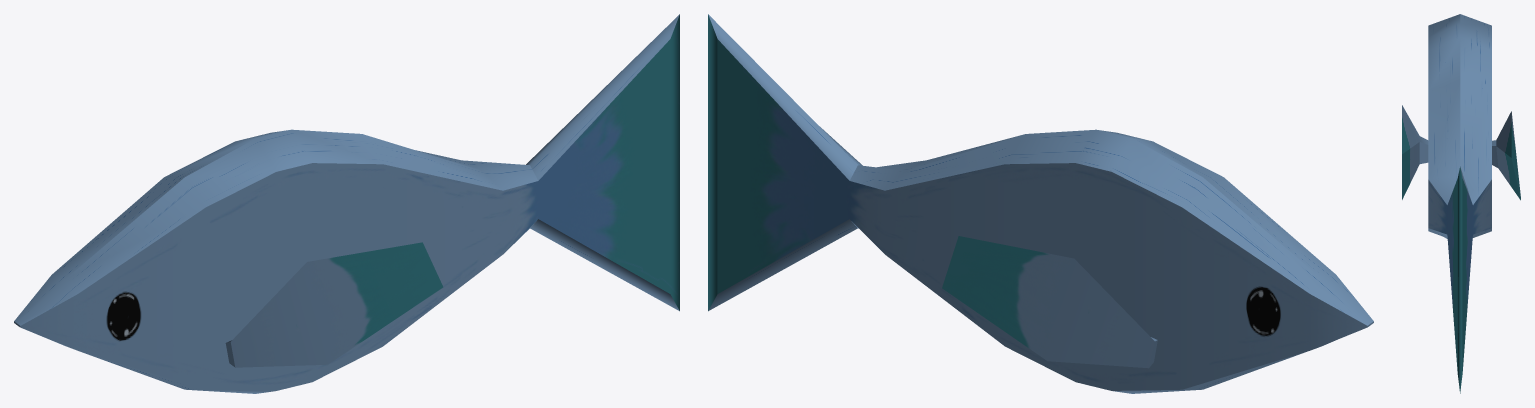
The model's file is Vis.fbx.
The picture shows the model from 3 angles, left to right: view 1: azimuth 30°, elevation 25°; view 2: azimuth 150°, elevation 25°; view 3: azimuth 270°, elevation 25°; orthographic projection. The views are drawn at different scales.
Visible parts, largest first — view 1: pCube4; view 2: pCube4; view 3: pCube4.
Part boxes in pixels (x1,y1,x2,y2): pCube4: (14, 14, 679, 393); pCube4: (708, 14, 1373, 393); pCube4: (1402, 14, 1520, 393).
Size of the model in its own units: 18.4 by 7.89 by 3.74.
